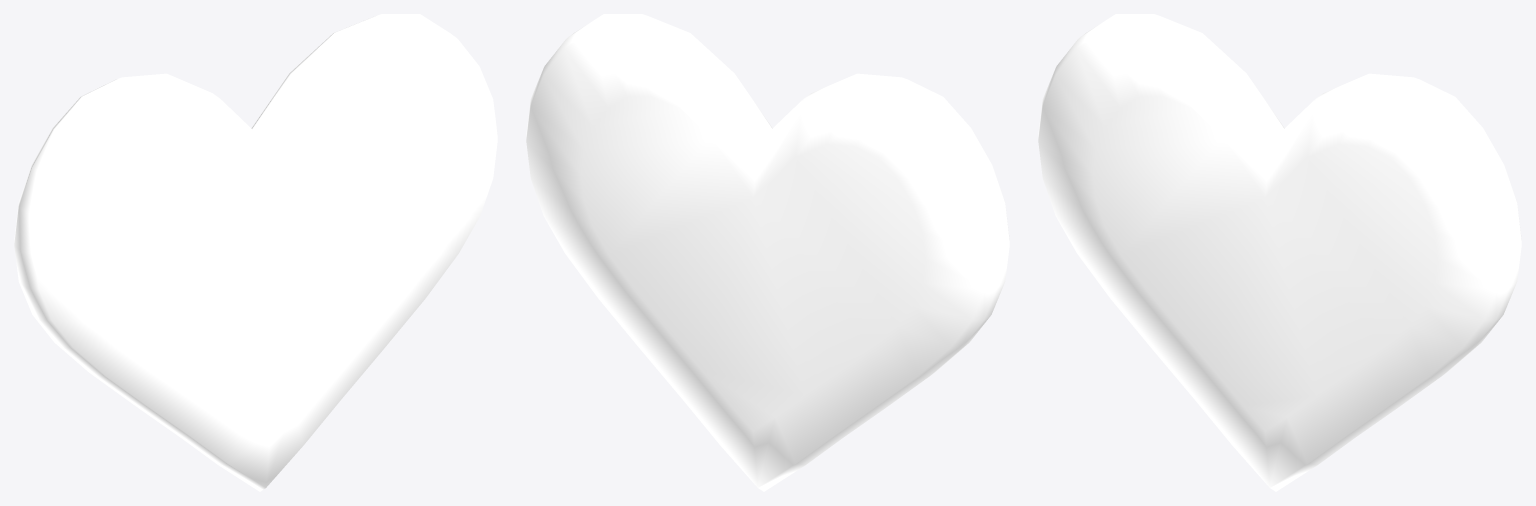
The model's file is 71de4ff5-fe09-4107-a623-3fcb237a9f5c.glb.
3 renders of one model, left to right at view 1: azimuth 30°, elevation 25°; view 2: azimuth 150°, elevation 25°; view 3: azimuth 330°, elevation 25°, orthographic.
Visible parts, largest first — view 1: IndicatorHeartWhite; view 2: IndicatorHeartWhite; view 3: IndicatorHeartWhite.
Boxes of the visible parts, x1=… form: IndicatorHeartWhite: x1=14, y1=14, x2=497, y2=491; IndicatorHeartWhite: x1=526, y1=14, x2=1009, y2=491; IndicatorHeartWhite: x1=1038, y1=14, x2=1521, y2=491.
Bounding box in the file's own units: 0.5424 × 0.4801 × 0.0583.
1 material, 1 textured.
